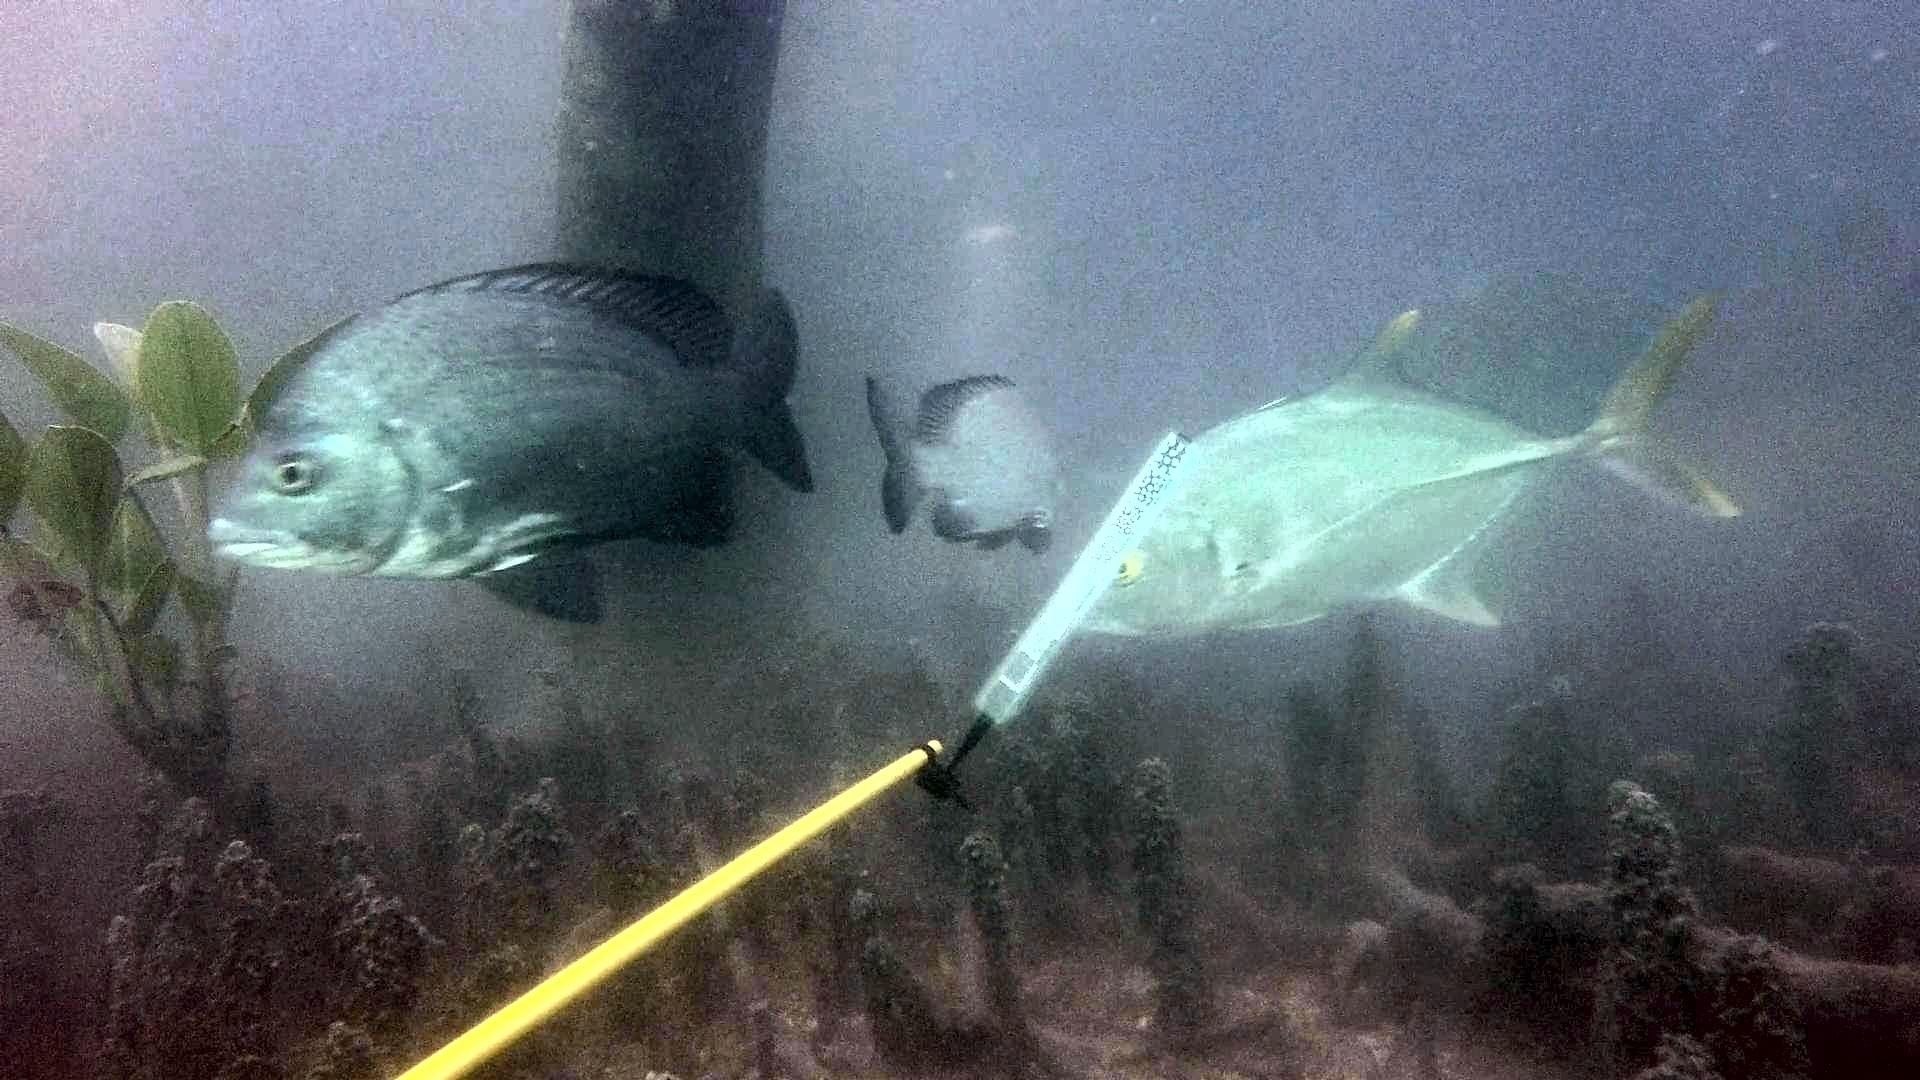acanthopagrus palmaris: (191, 258, 828, 637), (853, 359, 1072, 568)
caranx: (1076, 278, 1763, 657)
